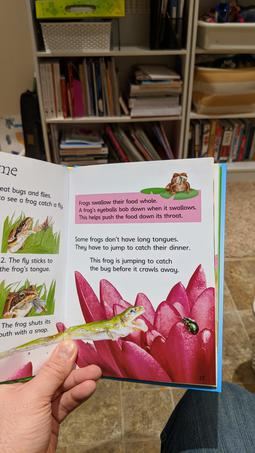text block: (70, 193, 199, 221), (82, 248, 185, 281), (69, 231, 197, 254), (1, 179, 66, 208), (1, 253, 59, 277), (1, 315, 59, 335), (1, 160, 33, 182)
